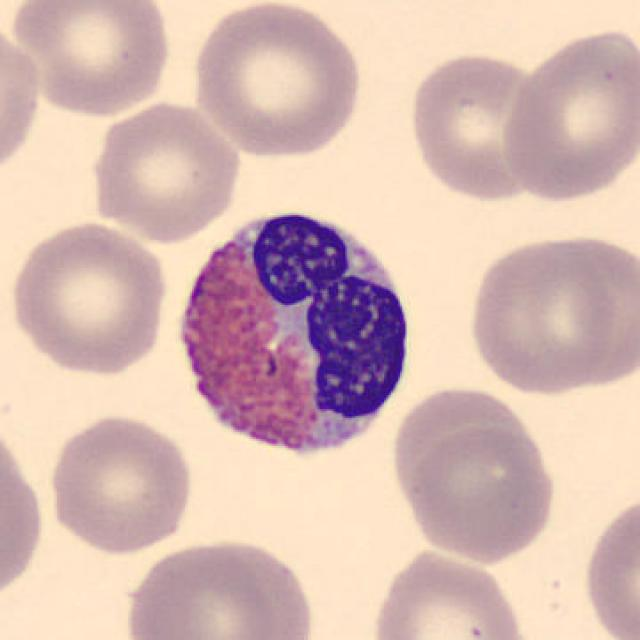Eosinophil: (160, 192, 423, 478)
RBC: (462, 228, 635, 398), (186, 0, 368, 160), (6, 217, 172, 379), (498, 23, 638, 206), (396, 420, 562, 564), (86, 97, 246, 243), (403, 48, 548, 204), (42, 409, 196, 555), (117, 536, 315, 640), (7, 0, 176, 120), (393, 383, 534, 525), (368, 546, 531, 640), (0, 411, 48, 614), (578, 486, 640, 640), (0, 15, 44, 185)
